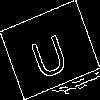U: (25, 25, 71, 81)
